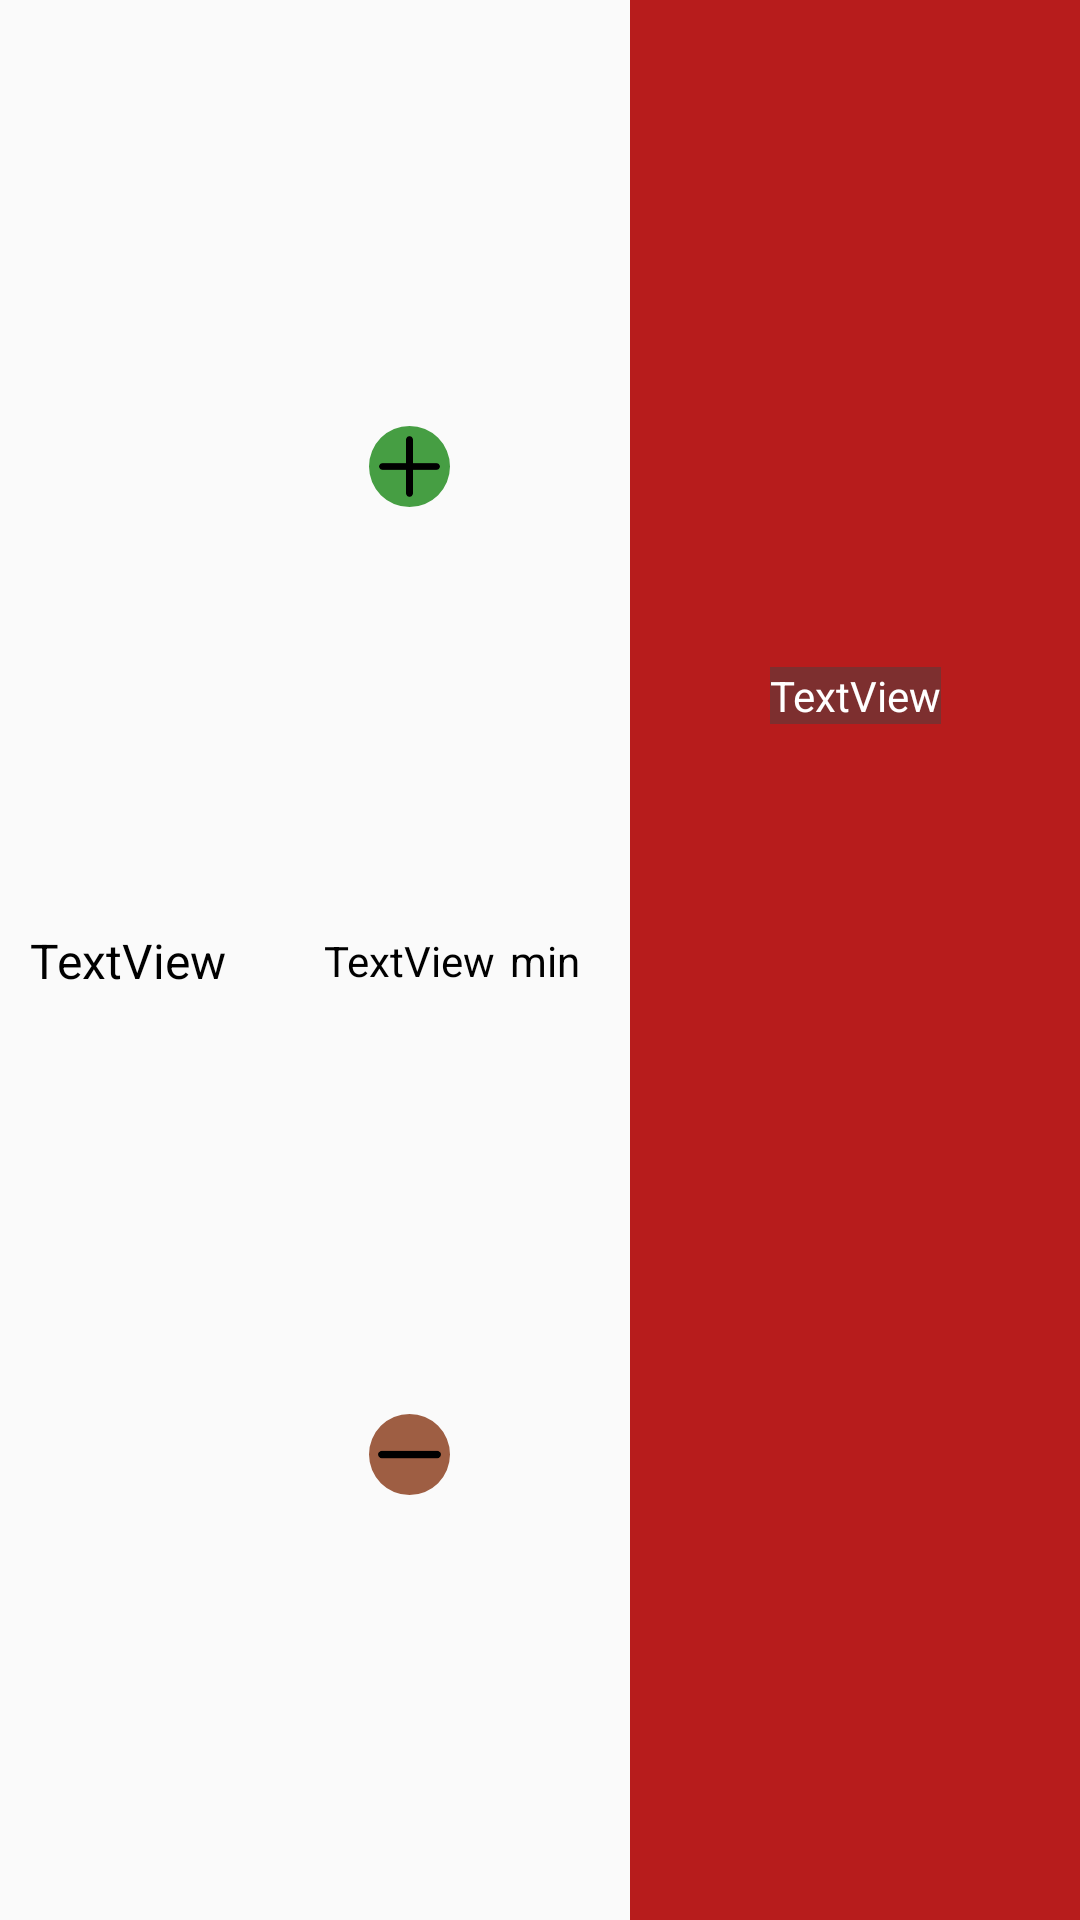

Named icons in this screenshot (1080 × 1920) and their centers, (x,y):
add: (409,466)
subtract: (409,1454)
